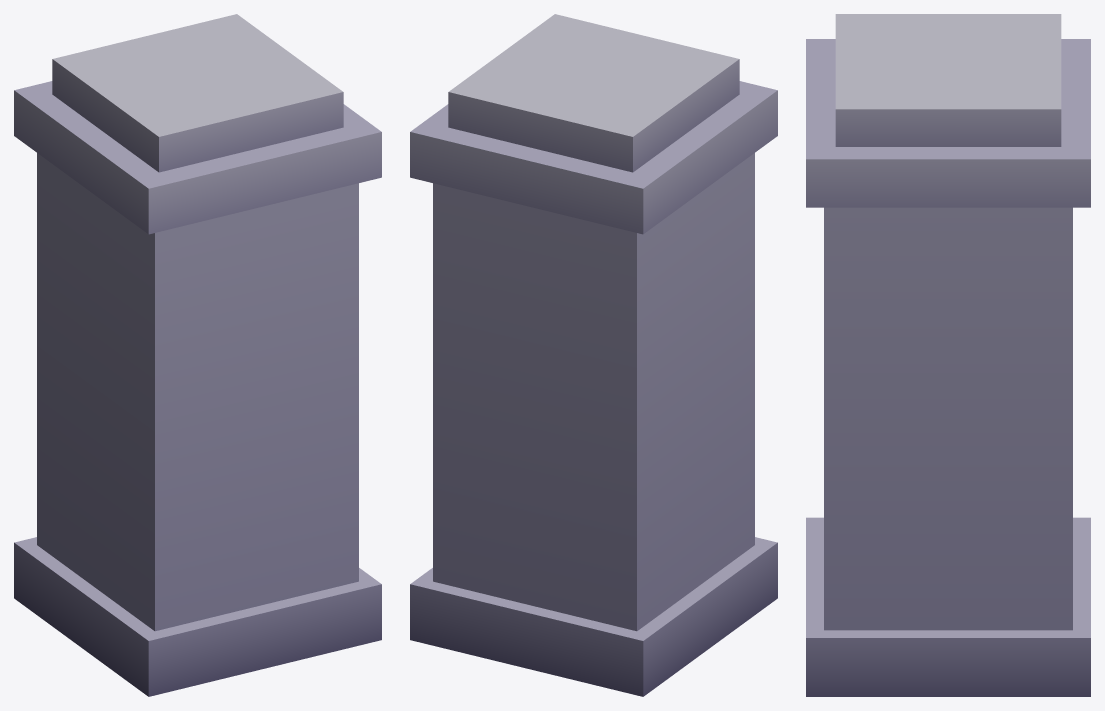
File: cel_fpillar.glb
The picture shows the model from 3 angles, left to right: view 1: azimuth 30°, elevation 25°; view 2: azimuth 150°, elevation 25°; view 3: azimuth 270°, elevation 25°; orthographic projection. The views are drawn at different scales.
Parts seen in each view (by area): view 1: fence_stone; view 2: fence_stone; view 3: fence_stone.
Boxes of the visible parts, x1=… form: fence_stone: x1=14, y1=14, x2=381, y2=696; fence_stone: x1=410, y1=14, x2=777, y2=696; fence_stone: x1=806, y1=14, x2=1090, y2=696.
Size of the model in its own units: 0.96 by 2.14 by 0.96.
